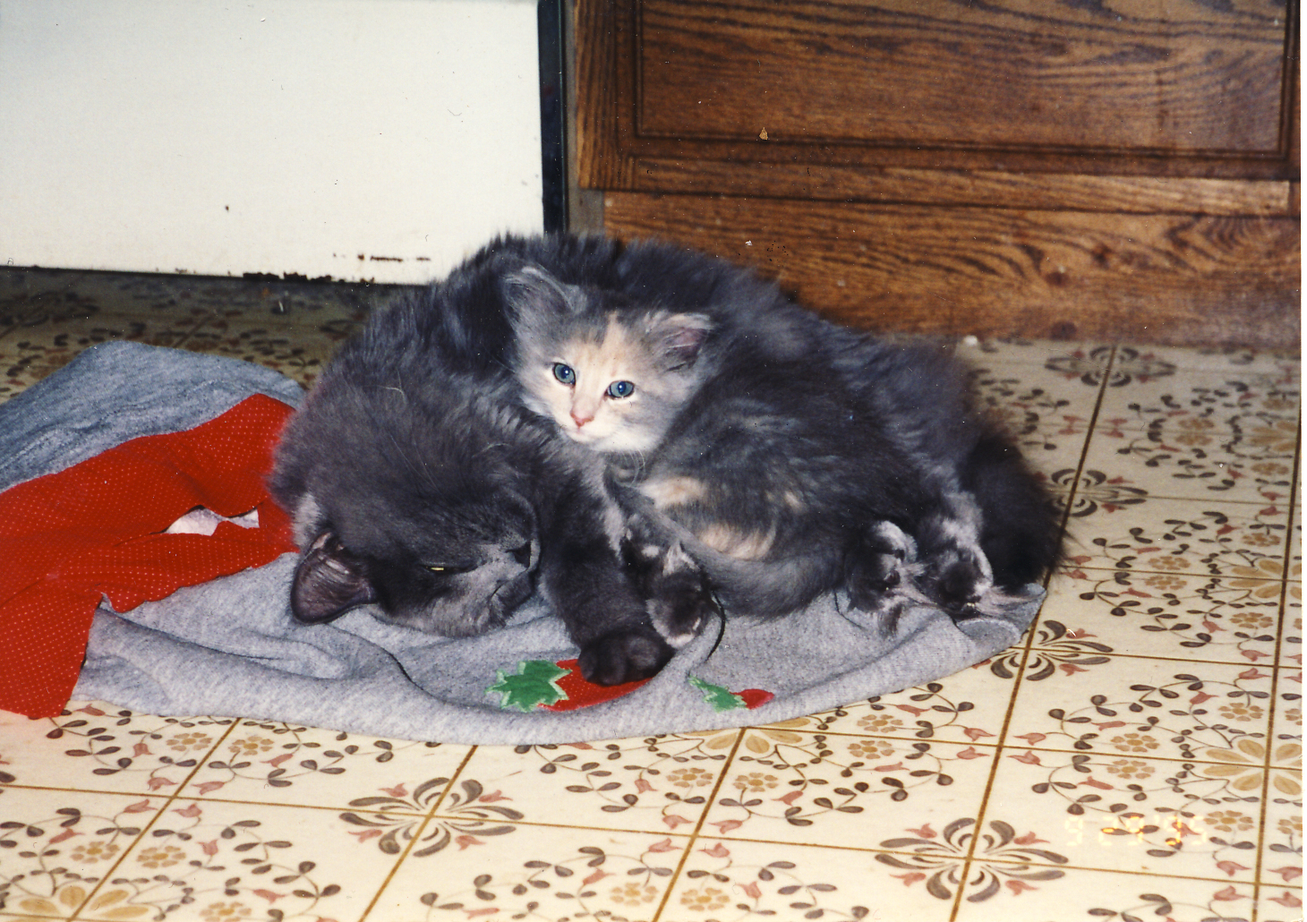cat: (261, 226, 1074, 686), (509, 270, 999, 610)
